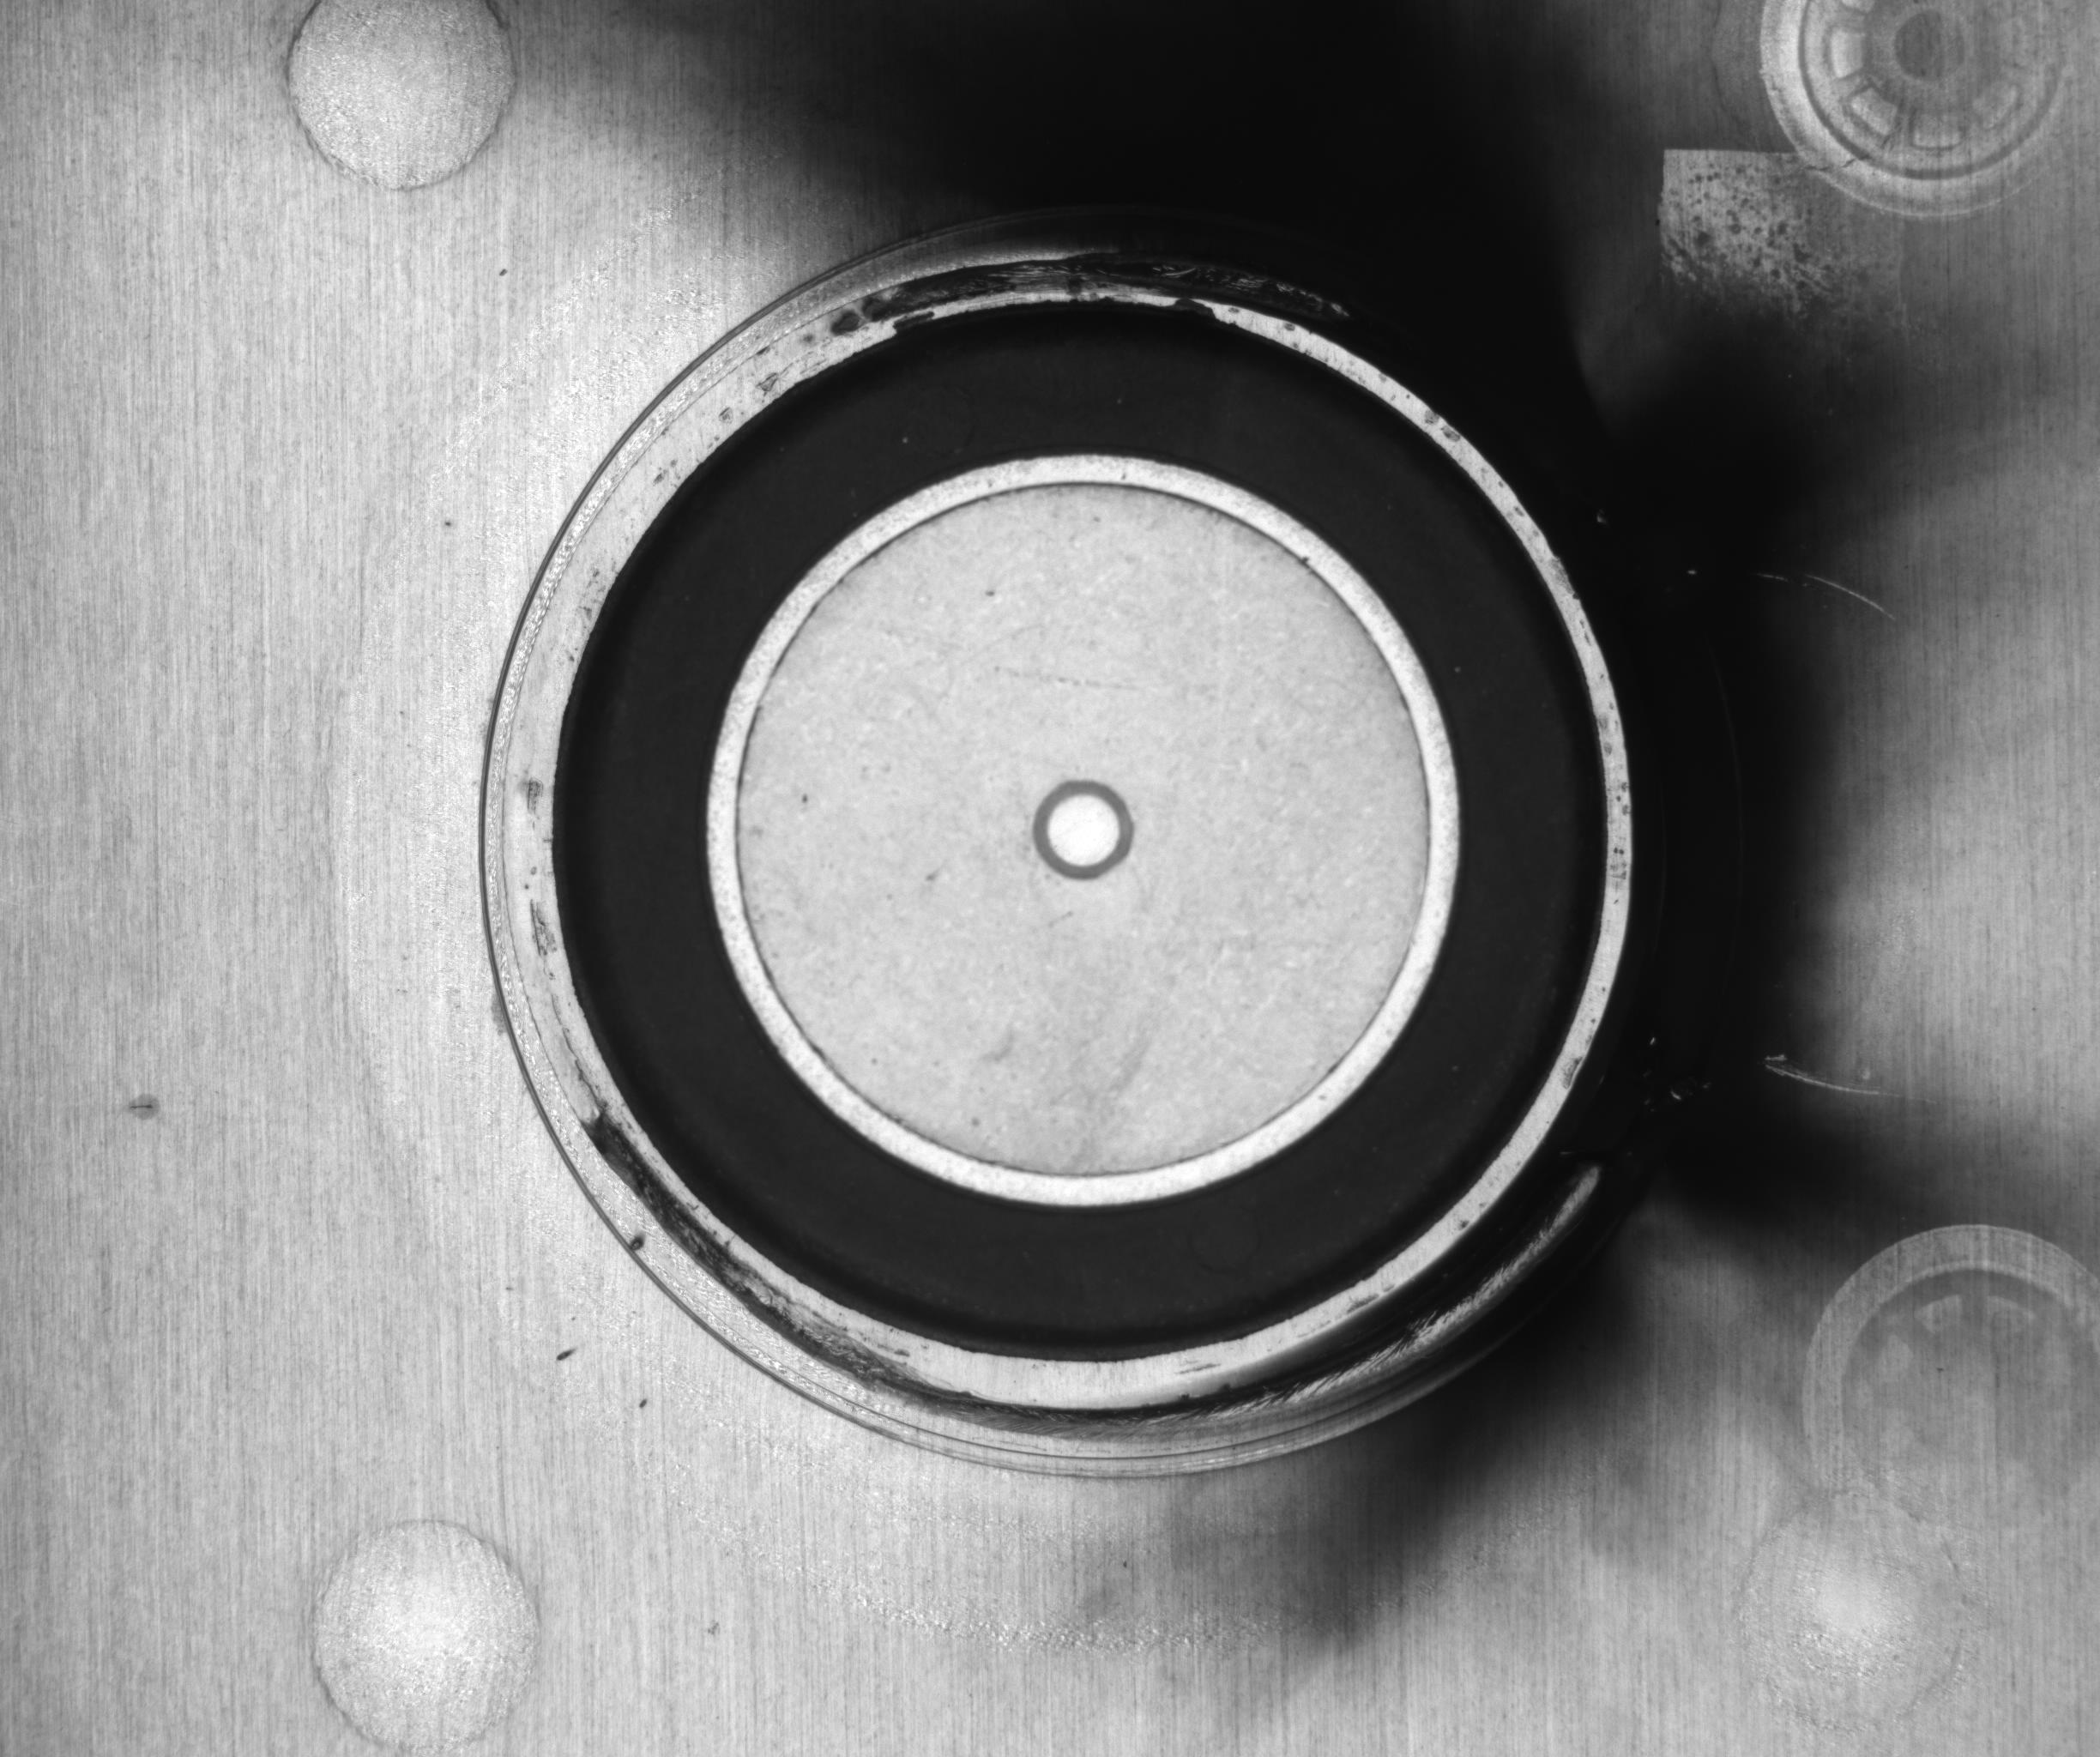burn: (832, 54, 1905, 1209)
